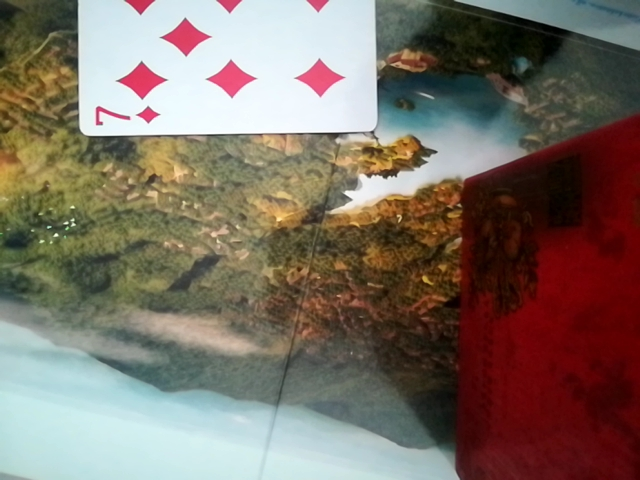fk 7: (60, 0, 374, 137)
